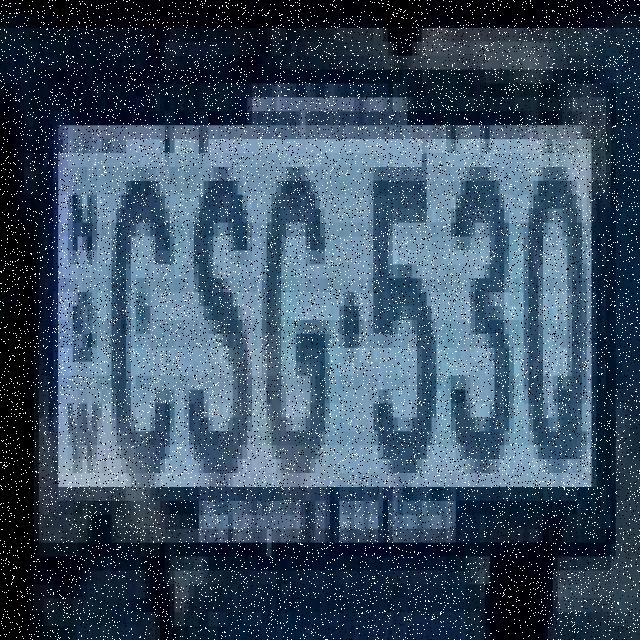licenseplate: (39, 64, 617, 590)
